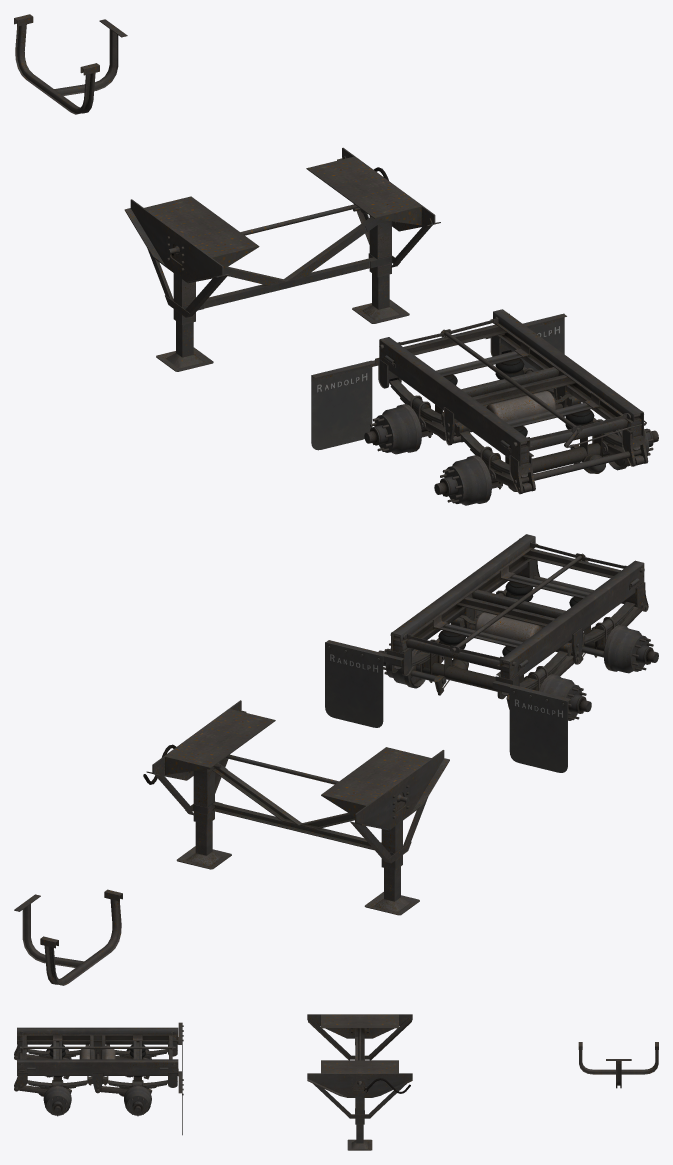
The model's file is trailerbase.DAE.
3 renders of one model, top to bottom at view 1: azimuth 30°, elevation 25°; view 2: azimuth 150°, elevation 25°; view 3: azimuth 270°, elevation 25°, orthographic. The views are drawn at different scales.
Parts seen in each view (by area): view 1: bogie_frame, trailer_feetbase, trailer_mudflap_R, trailer_sparetireholder, trailer_feet, bogie_drum_F, bogie_drum_R, bogie_axle_F, bogie_leaf_F, trailer_mudflap_L, bogie_leaf_R, bogie_arm_F; view 2: bogie_frame, trailer_feetbase, trailer_mudflap_R, trailer_mudflap_L, trailer_sparetireholder, trailer_feet, bogie_drum_F, bogie_drum_R, bogie_axle_R, bogie_leaf_R; view 3: bogie_frame, trailer_feetbase, trailer_sparetireholder, bogie_drum_R, bogie_drum_F, bogie_leaf_F, bogie_leaf_R, trailer_feet, bogie_arm_F, bogie_arm_R.
Part boxes in pixels (box(x1,y1,x2,y2)): bogie_frame: box(378, 309, 648, 494); trailer_feetbase: box(124, 147, 440, 324); trailer_mudflap_R: box(311, 360, 372, 450); trailer_sparetireholder: box(14, 14, 127, 114); trailer_feet: box(156, 273, 409, 371); bogie_drum_F: box(434, 423, 658, 505); bogie_drum_R: box(364, 396, 554, 454); bogie_axle_F: box(480, 419, 613, 489); bogie_leaf_F: box(459, 403, 640, 477); trailer_mudflap_L: box(520, 313, 564, 371); bogie_leaf_R: box(389, 350, 554, 424); bogie_arm_F: box(489, 441, 644, 492); bogie_frame: box(390, 534, 648, 699); trailer_feetbase: box(143, 700, 449, 870); trailer_mudflap_R: box(509, 687, 567, 772); trailer_mudflap_L: box(325, 642, 383, 727); trailer_sparetireholder: box(14, 889, 122, 985); trailer_feet: box(176, 821, 419, 915); bogie_drum_F: box(474, 618, 658, 673); bogie_drum_R: box(378, 643, 591, 720); bogie_axle_R: box(416, 639, 547, 691); bogie_leaf_R: box(394, 624, 567, 695); bogie_frame: box(14, 1027, 178, 1093); trailer_feetbase: box(307, 1014, 412, 1124); trailer_sparetireholder: box(578, 1042, 658, 1088); bogie_drum_R: box(124, 1049, 151, 1116); bogie_drum_F: box(43, 1049, 71, 1116); bogie_leaf_F: box(27, 1049, 88, 1088); bogie_leaf_R: box(107, 1049, 167, 1088); trailer_feet: box(347, 1124, 372, 1150); bogie_arm_F: box(14, 1053, 52, 1093); bogie_arm_R: box(96, 1056, 132, 1094).
Size of the model in its own units: 259 by 997 by 127.
